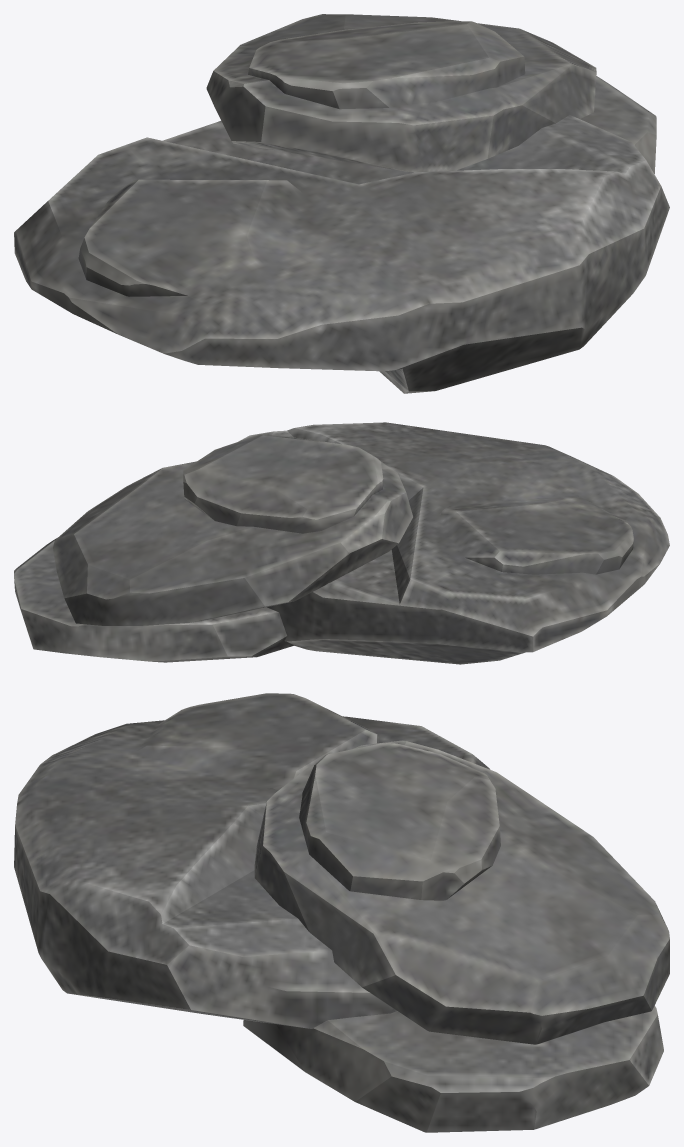
File: RockGroup02_Dream.glb
3 views of the same model, one above another, from view 1: azimuth 30°, elevation 25°; view 2: azimuth 150°, elevation 25°; view 3: azimuth 270°, elevation 25° (orthographic). The views are drawn at different scales.
Visible parts, largest first — view 1: rockgroup02_dream; view 2: rockgroup02_dream; view 3: rockgroup02_dream.
Part boxes in pixels (left/top/right/bottom): rockgroup02_dream: left=14, top=14, right=669, bottom=393; rockgroup02_dream: left=14, top=422, right=669, bottom=664; rockgroup02_dream: left=14, top=693, right=669, bottom=1132.
Bounding box in the file's own units: 0.8249 × 0.2467 × 0.6997.
1 material, 1 textured.
